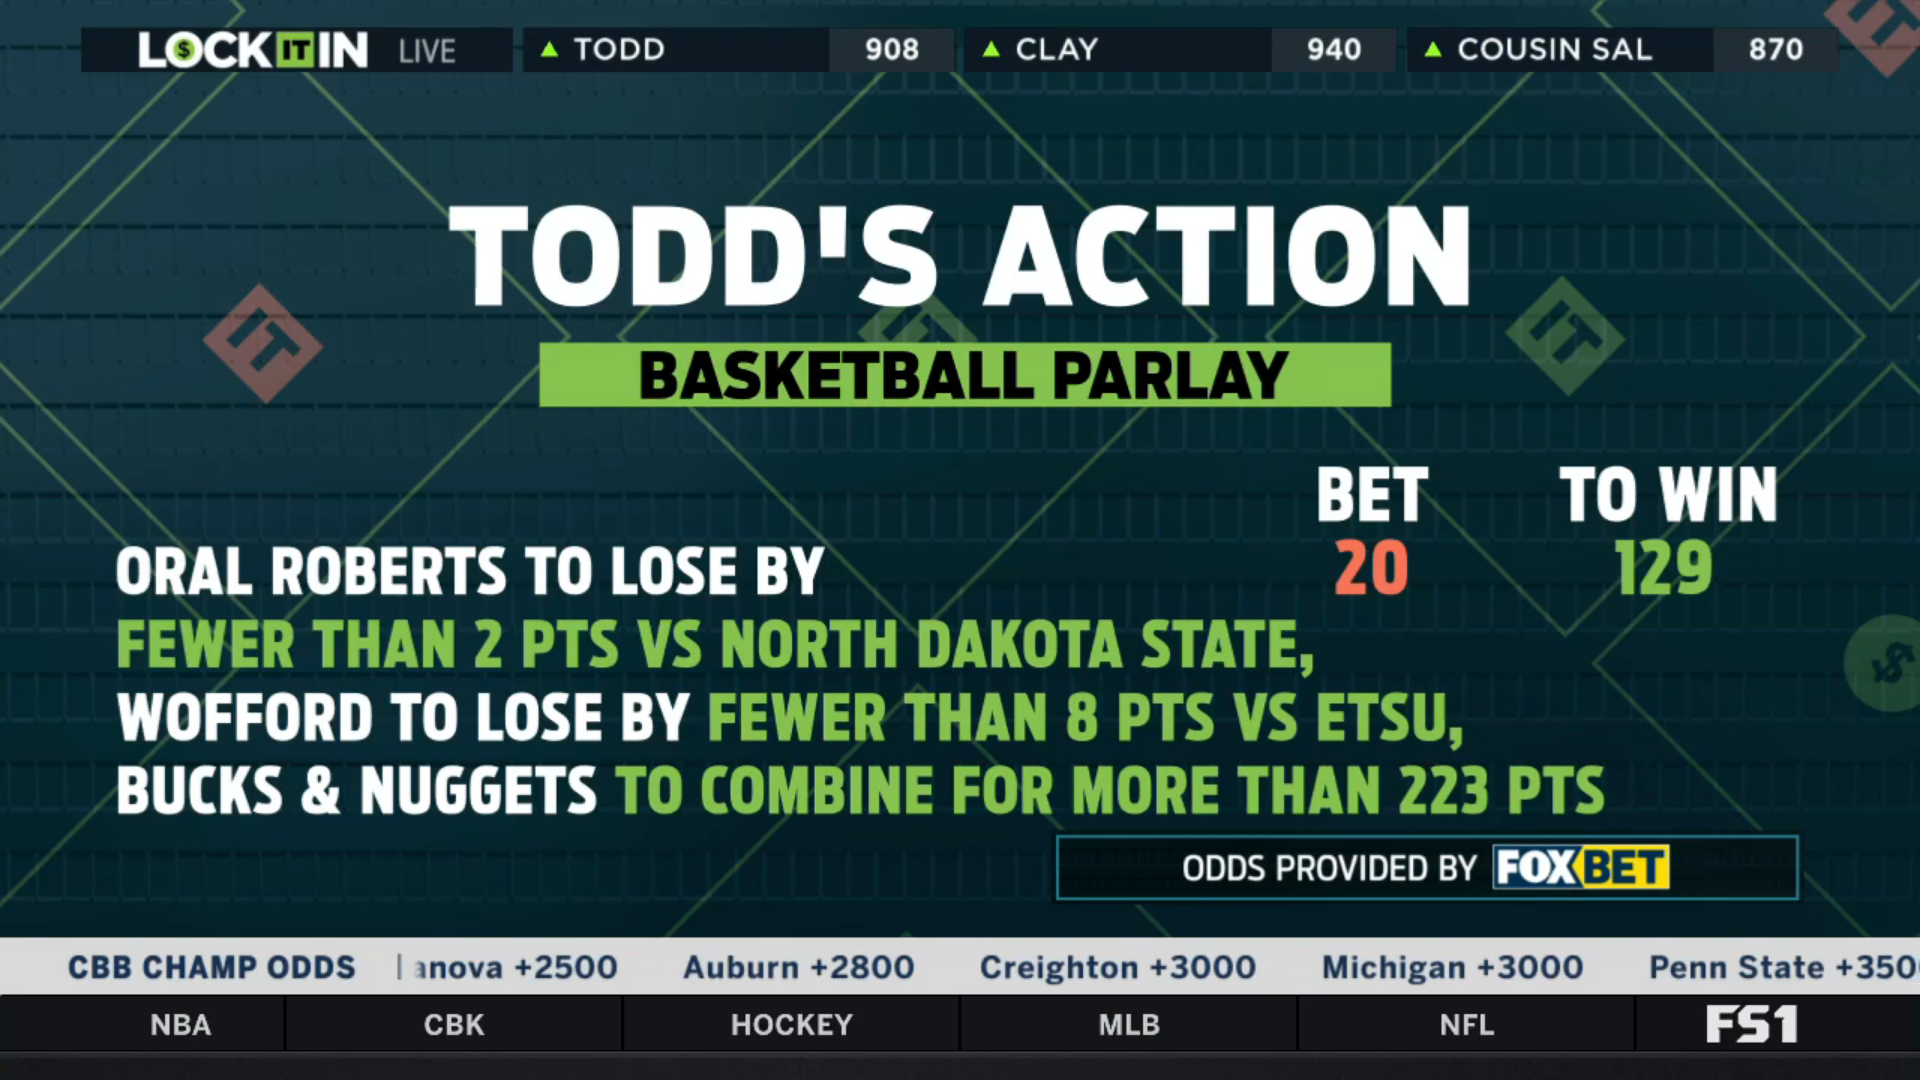Bet: (105, 533, 1619, 825)
Bet Amount: (1307, 455, 1437, 609)
Subtitle: (531, 331, 1403, 415)
Title: (440, 195, 1484, 320)
To Win: (1549, 454, 1788, 621)
Top Bar: (73, 17, 1849, 80)
